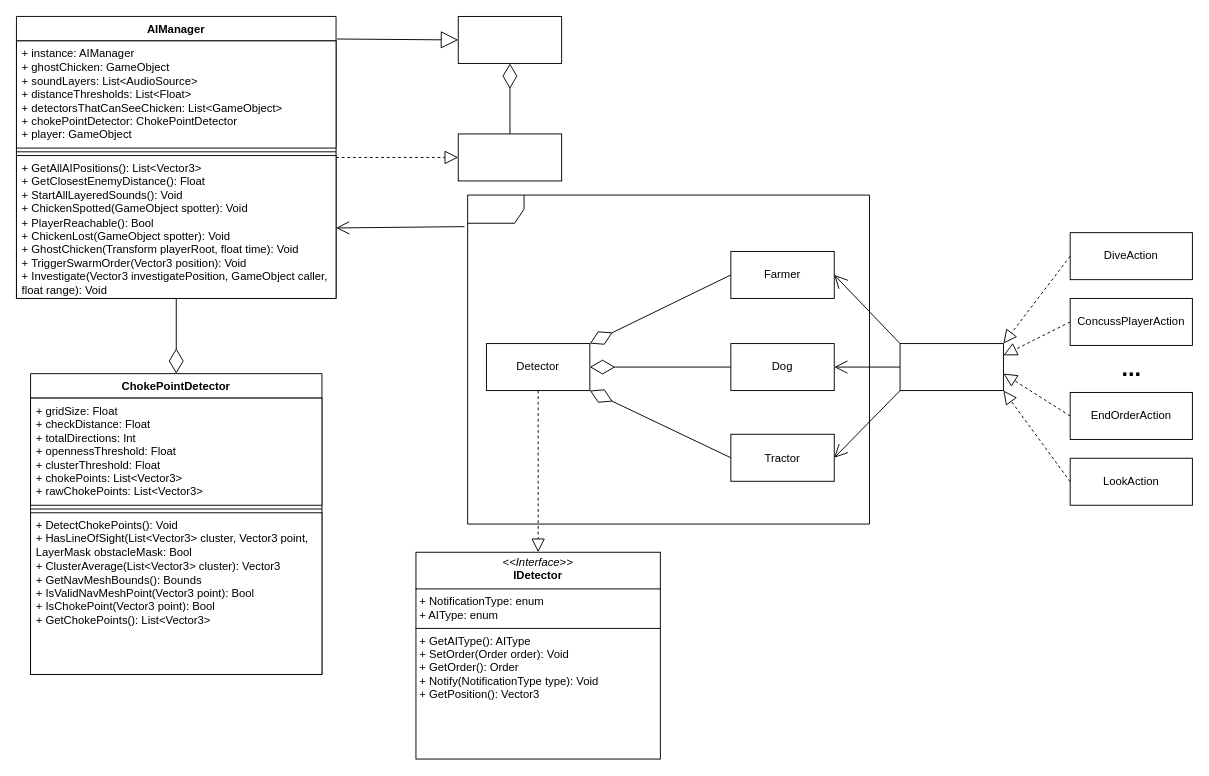
The diagram is 1209 pixels wide and 776 high, and some of its shapes have lost their labels. The centre of each missing label's shape, as x and y in pixels:
Enemy: the point at 668,359
GameManager: the point at 509,39
«interface» Action: the point at 951,367
«interface» INotify: the point at 509,157
